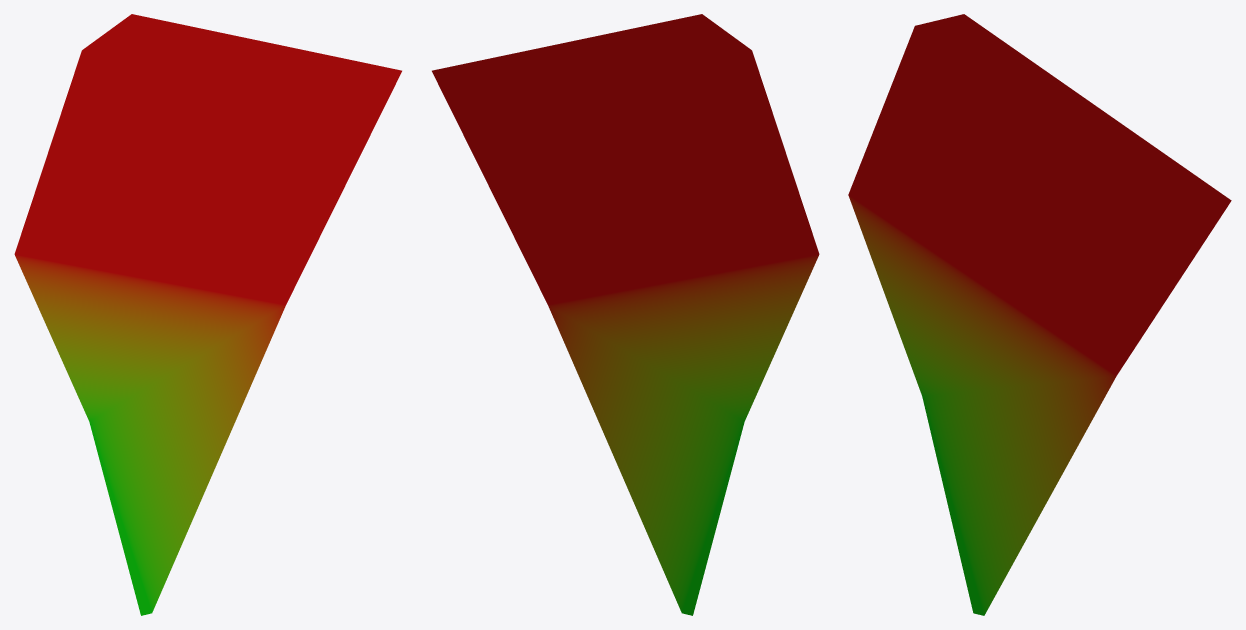
File: Sea Wheatgrass_LOD3_Var5_ui2oagjia.fbx
3 views of the same model, side by side, from view 1: azimuth 30°, elevation 25°; view 2: azimuth 150°, elevation 25°; view 3: azimuth 330°, elevation 25° (orthographic).
Visible parts, largest first — view 1: _8r28_Var5_LOD3; view 2: _8r28_Var5_LOD3; view 3: _8r28_Var5_LOD3.
Part boxes in pixels (left/top/right/bottom): _8r28_Var5_LOD3: left=14, top=14, right=401, bottom=615; _8r28_Var5_LOD3: left=432, top=14, right=819, bottom=615; _8r28_Var5_LOD3: left=848, top=14, right=1231, bottom=615.
Bounding box in the file's own units: 44.39 × 66.06 × 2.89e-06.
